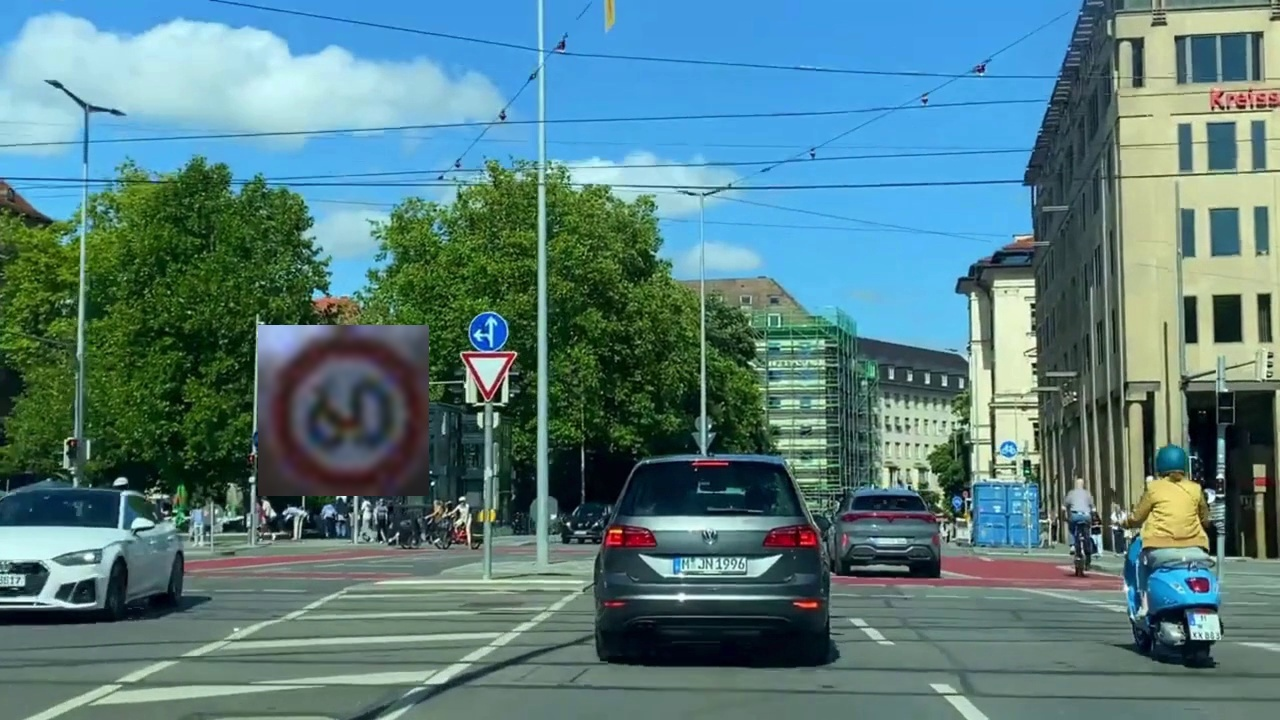Speed 60: (258, 325, 429, 496)
